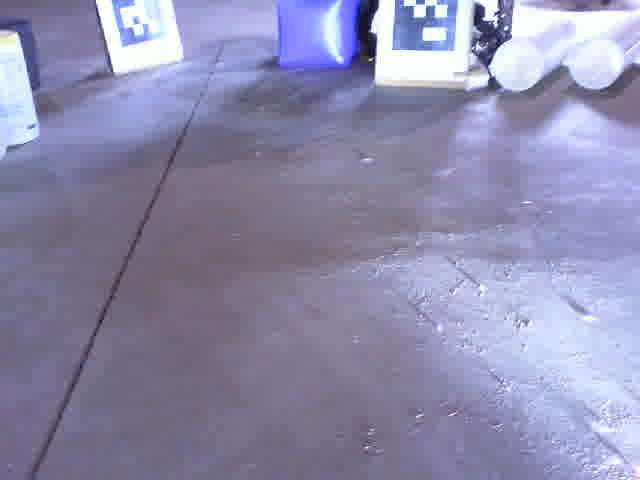coral: (489, 13, 581, 91), (572, 7, 639, 88)
